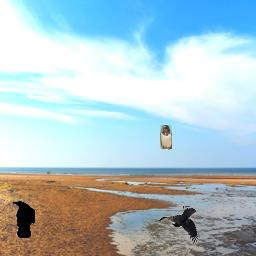Crow: (159, 206, 199, 245), (12, 201, 35, 238)
Swallow: (160, 125, 172, 150)
